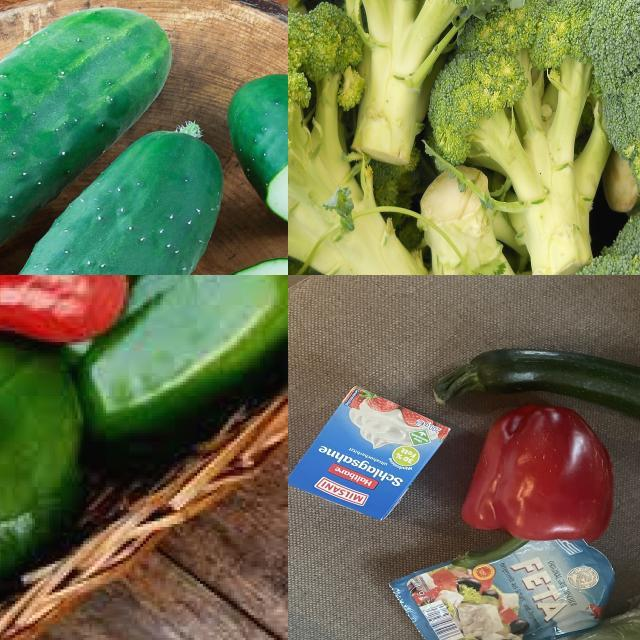bell_pepper: (75, 276, 289, 434), (1, 325, 92, 637), (468, 405, 625, 557)
cucumber: (1, 1, 178, 276), (1, 129, 227, 276), (230, 74, 289, 249)
zucchini: (424, 339, 640, 449)
